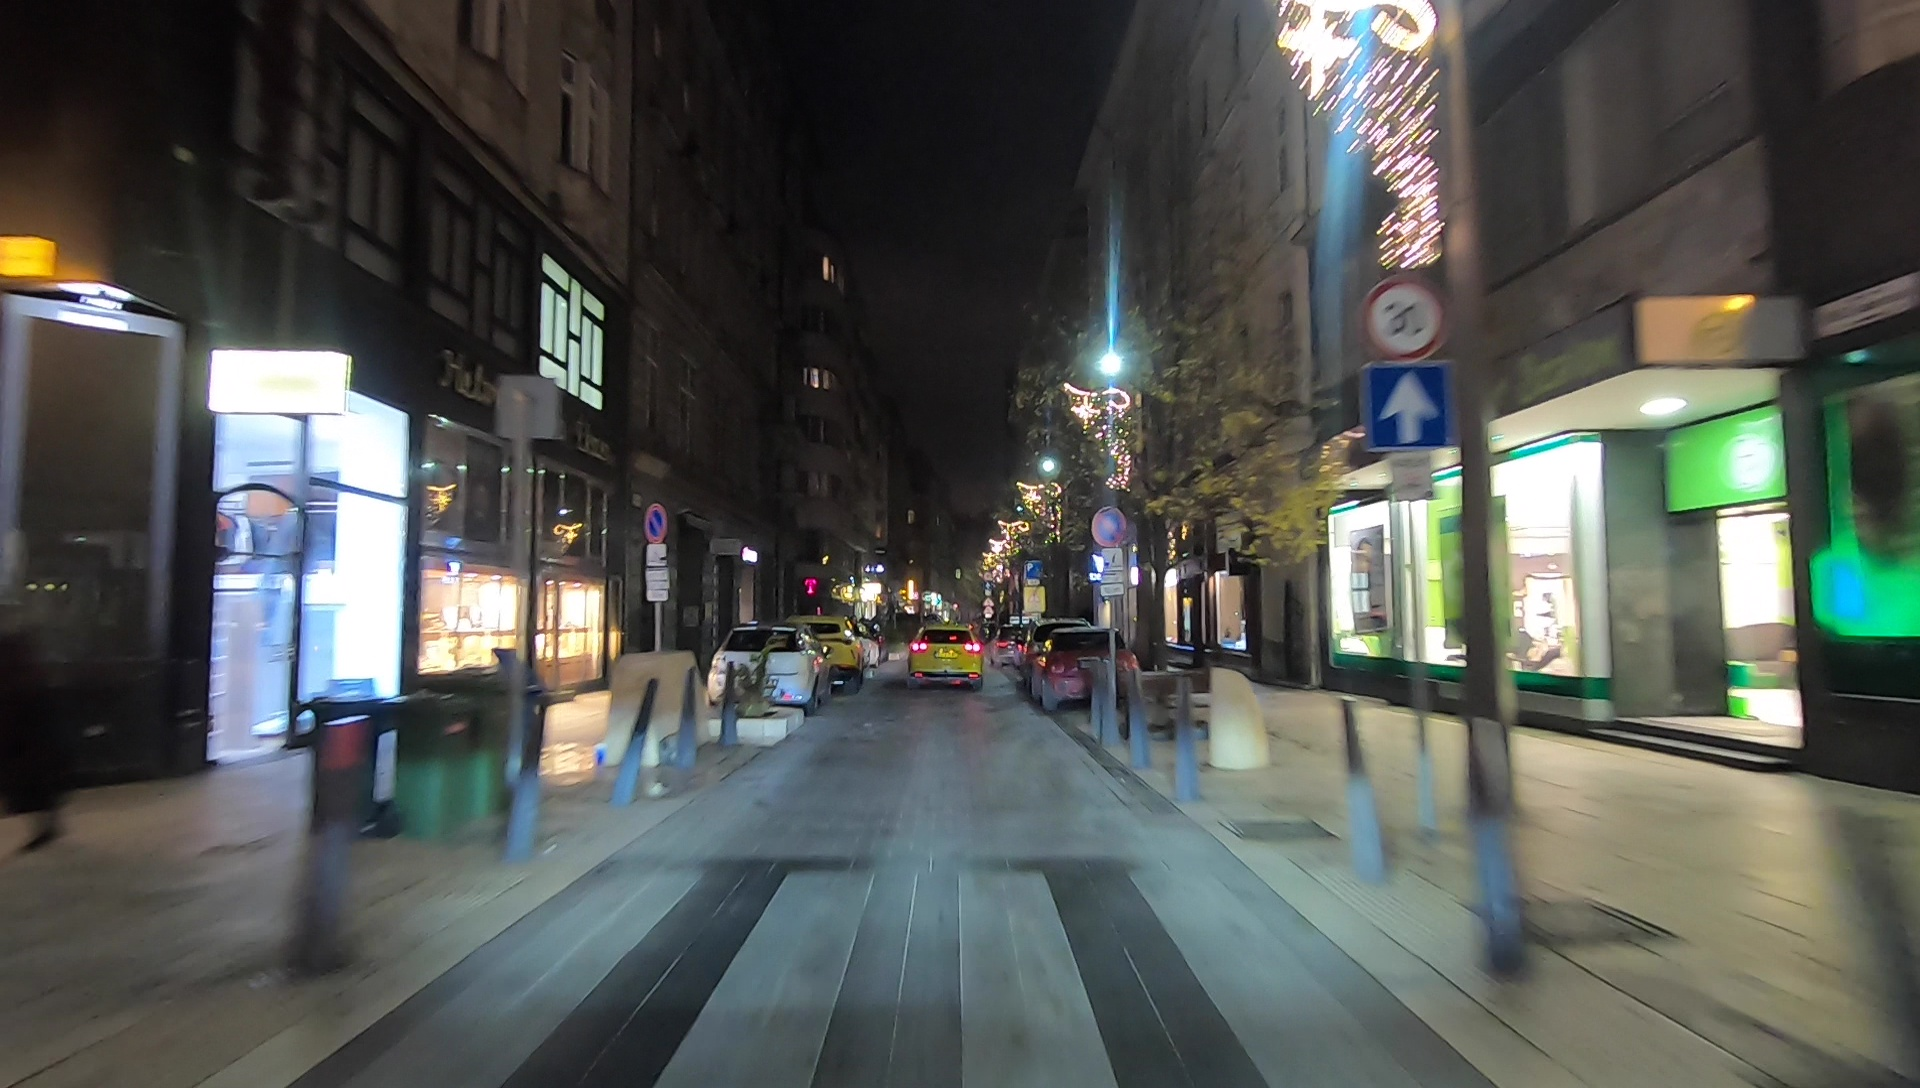person: (1, 584, 76, 849)
